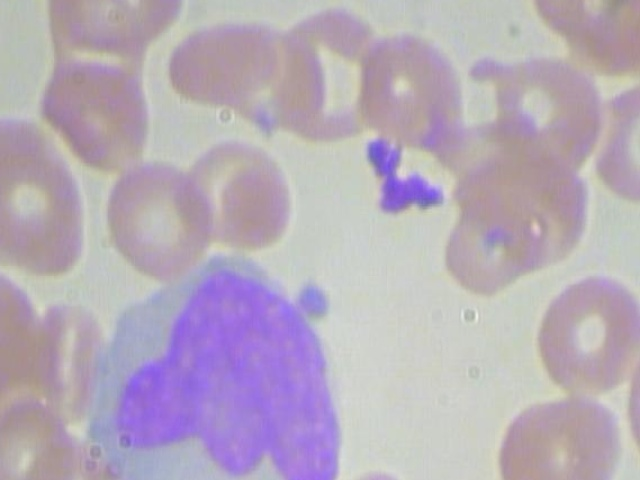Platelets: (371, 169, 412, 222), (292, 272, 339, 317), (356, 135, 404, 177), (406, 168, 448, 215)
RBC: (345, 24, 477, 149), (535, 275, 640, 402), (100, 157, 213, 274), (183, 133, 296, 250), (492, 382, 625, 480), (590, 74, 640, 202), (627, 327, 640, 480)
WBC: (77, 248, 355, 480)
